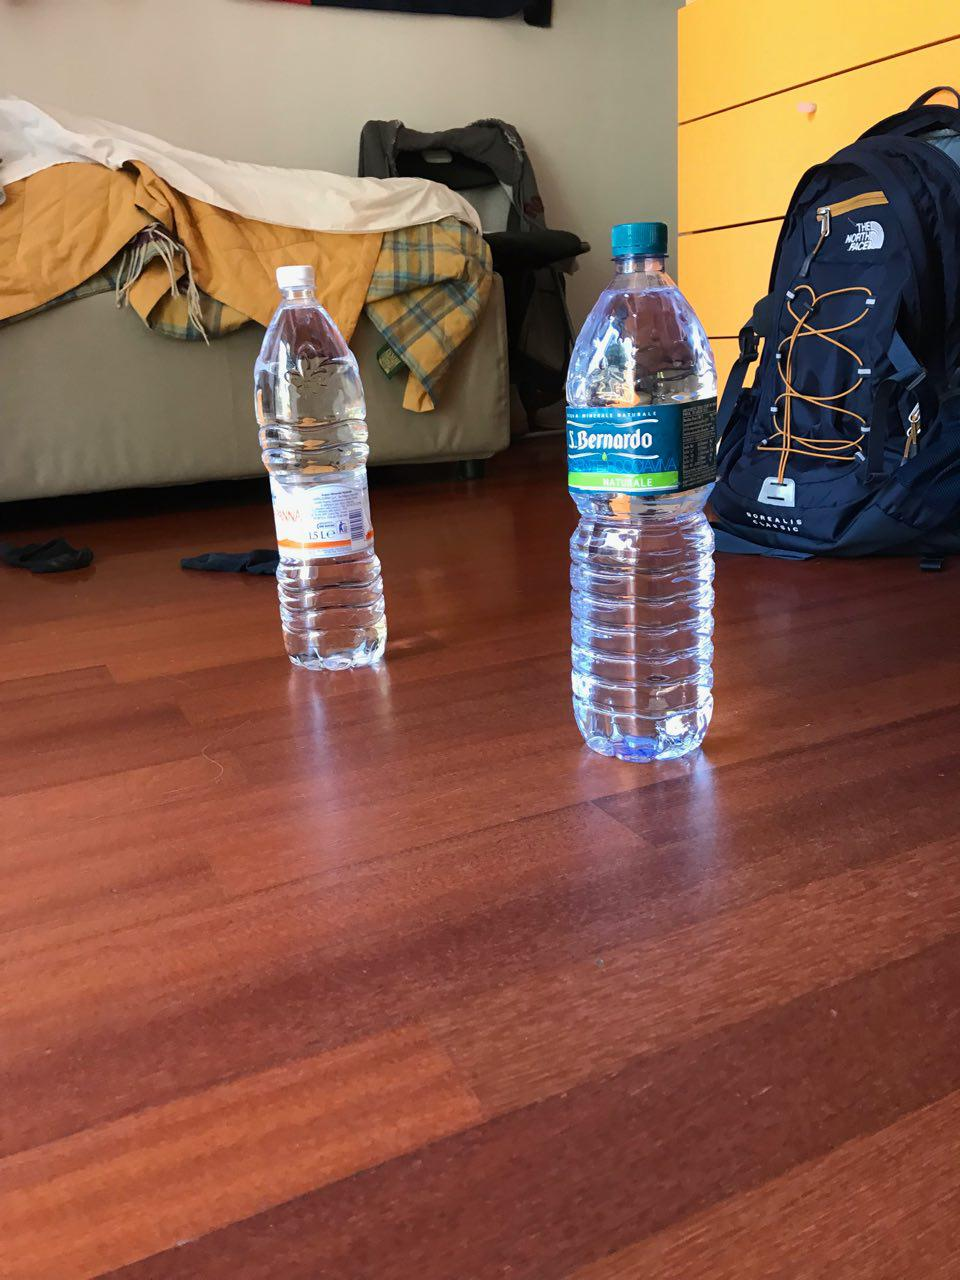san_bernardo: (563, 221, 718, 765)
